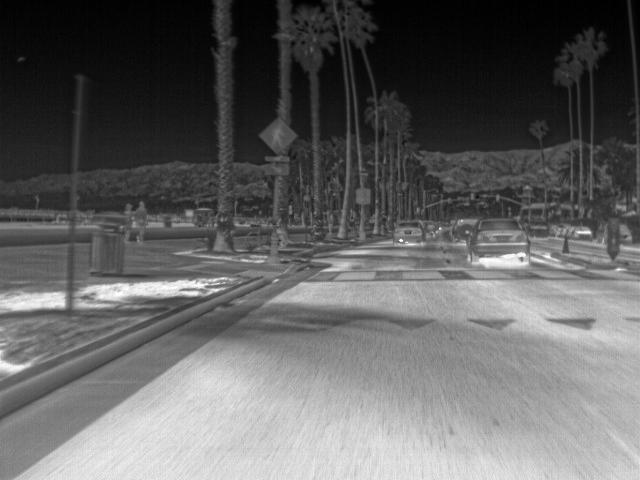car: (464, 214, 532, 260), (392, 219, 429, 244), (451, 218, 479, 244), (615, 223, 631, 248), (574, 225, 595, 242)
person: (133, 199, 150, 242), (122, 202, 138, 242)
